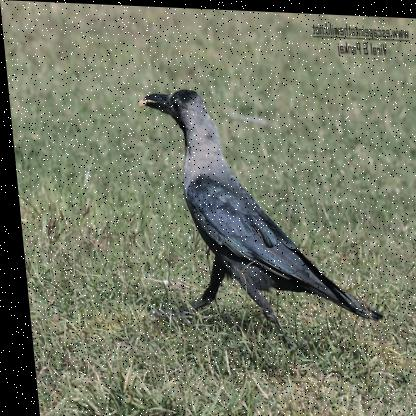Burung: (142, 86, 380, 348)
